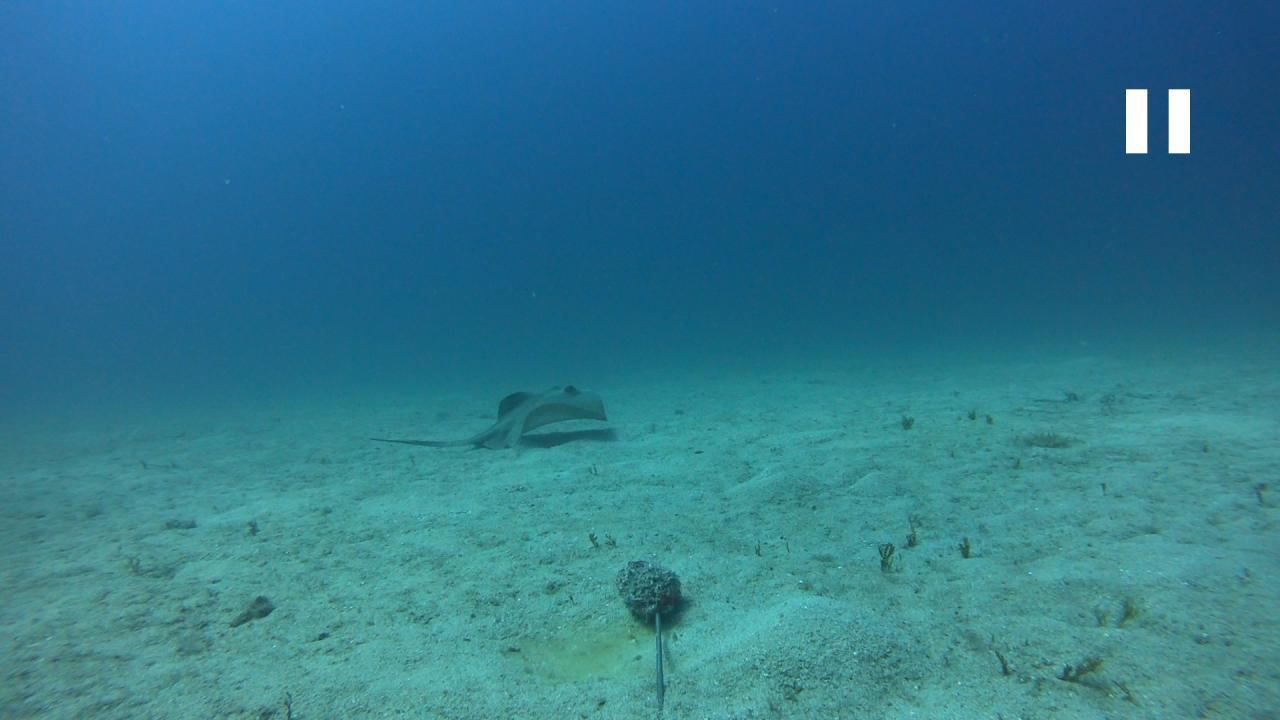dasyatis: (368, 382, 608, 449)
